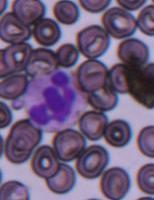N: (24, 68, 86, 132)
